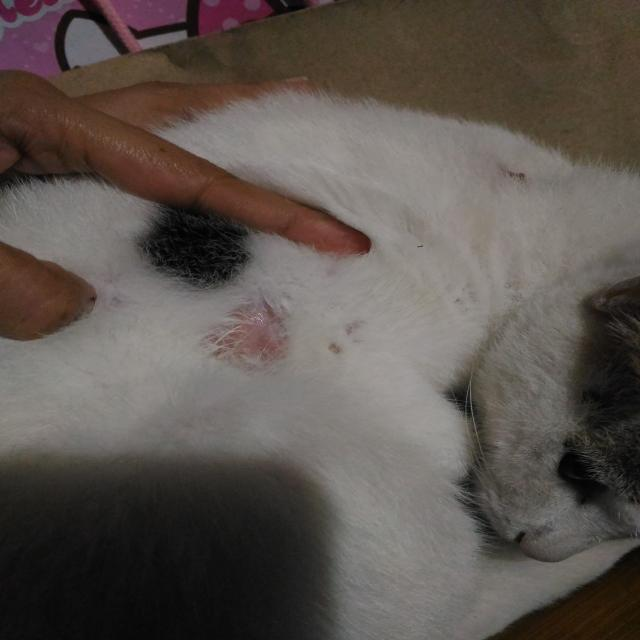Ringworm: (190, 284, 312, 382)
